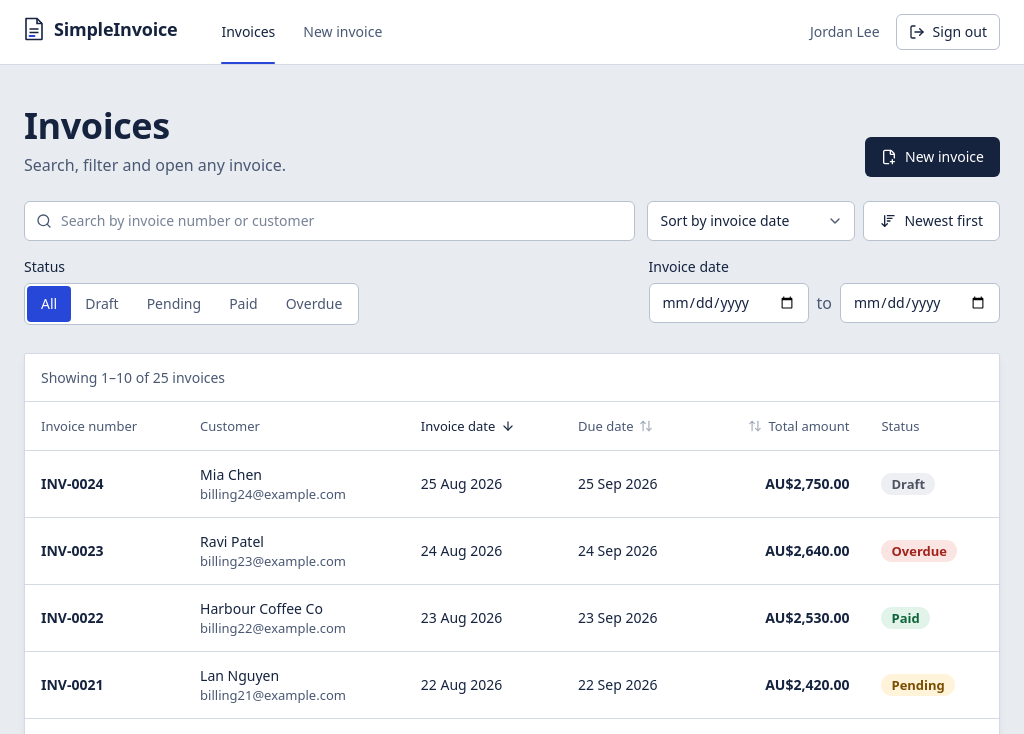
Test: invoice list › searches by invoice number or customer once typing pauses
The width and height of the screenshot is (1024, 734).
Type "paul" into the search field named "Search invoices". click: (330, 221)
box: top-left (24, 201), bottom-right (636, 241)
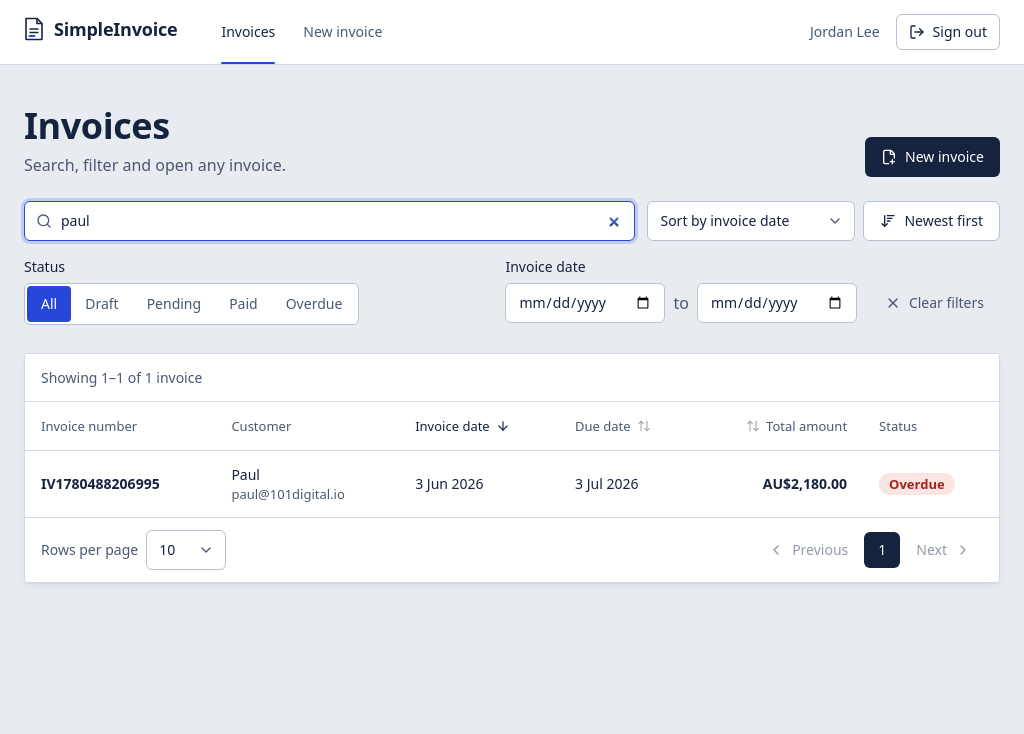
Expected: the text "Showing 1–1 of 1 invoice" is shown, top-left (41, 368), bottom-right (202, 388)
Expected: the link "IV1780488206995" is shown, top-left (41, 474), bottom-right (160, 493)
